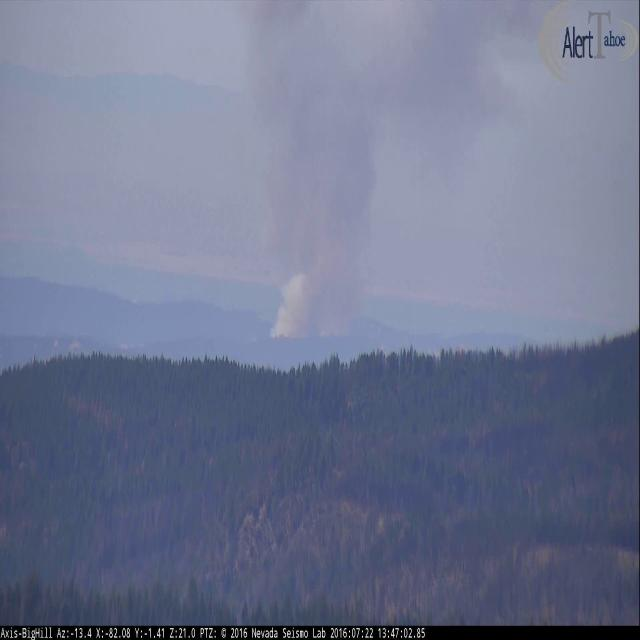smoke: (255, 0, 536, 345)
